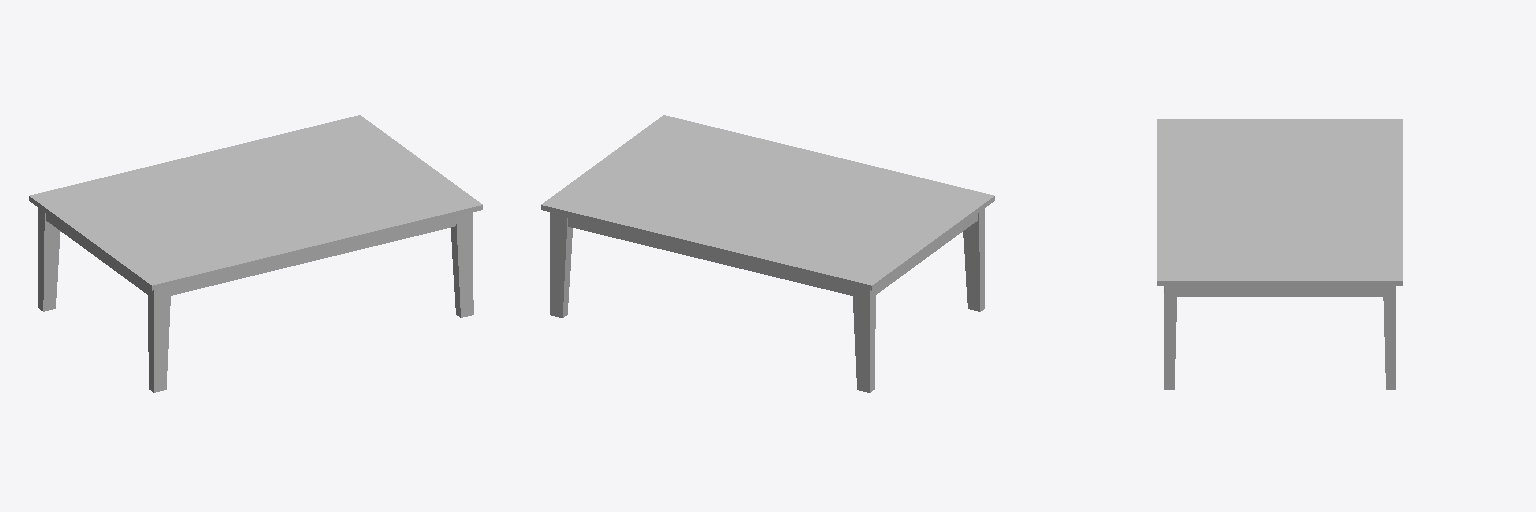
File: table.obj
3 views of the same model, side by side, from view 1: azimuth 30°, elevation 25°; view 2: azimuth 150°, elevation 25°; view 3: azimuth 270°, elevation 25° (orthographic).
Visible parts, largest first — view 1: Box264, Box219, Box252, Box208, Box203, Box210; view 2: Box264, Box228, Box203, Box204, Box252, Box210; view 3: Box264, Box209, Box208, Box204.
Boxes of the visible parts, <box> form: Box264: <box>29,115,482,290</box>; Box219: <box>171,217,455,295</box>; Box252: <box>148,286,170,392</box>; Box208: <box>451,213,473,317</box>; Box203: <box>38,208,60,311</box>; Box210: <box>46,214,147,294</box>; Box264: <box>541,115,994,290</box>; Box228: <box>568,217,852,295</box>; Box203: <box>852,286,875,392</box>; Box204: <box>550,212,572,317</box>; Box252: <box>963,209,984,311</box>; Box210: <box>876,214,977,294</box>; Box264: <box>1157,119,1402,285</box>; Box209: <box>1177,286,1382,296</box>; Box208: <box>1164,286,1176,389</box>; Box204: <box>1383,286,1395,389</box>.
Size of the model in its own units: 7.38 by 2.37 by 4.75.